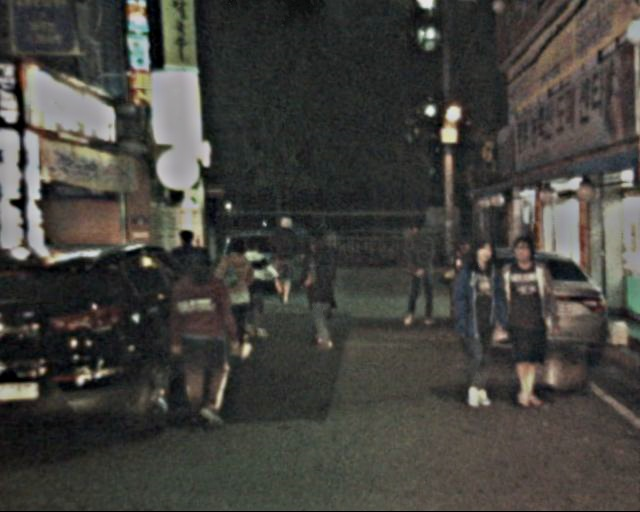person: (488, 238, 559, 408), (446, 237, 514, 404), (169, 255, 238, 418), (209, 238, 264, 360), (162, 228, 212, 349), (296, 238, 345, 352), (396, 221, 441, 330), (234, 233, 279, 335), (266, 216, 304, 299)
